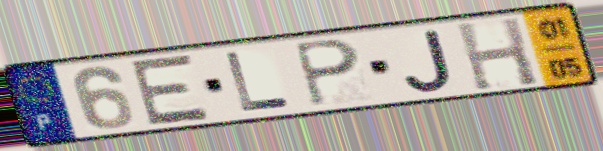6: (69, 63, 136, 132)
E: (128, 52, 214, 128)
H: (452, 14, 543, 93)
J: (400, 27, 457, 94)
L: (222, 50, 295, 114)
P: (289, 37, 364, 110)
